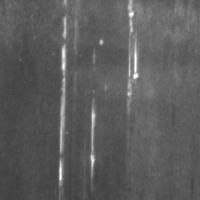scratches: (51, 13, 74, 190), (122, 0, 144, 103), (84, 94, 102, 186)
